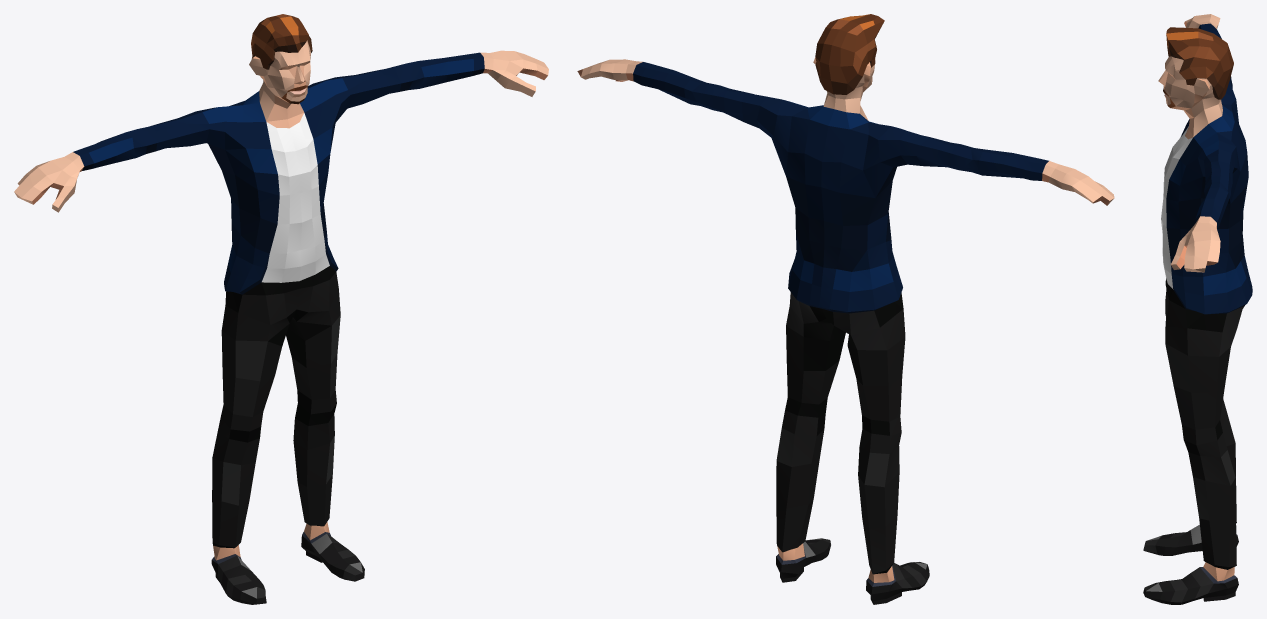
Rendered from night_Male_A-model.obj.
The picture shows the model from 3 angles, left to right: view 1: azimuth 30°, elevation 25°; view 2: azimuth 150°, elevation 25°; view 3: azimuth 270°, elevation 25°; orthographic projection. The views are drawn at different scales.
Parts seen in each view (by area): view 1: night_Male_A, acc_men_hair_brown; view 2: night_Male_A, acc_men_hair_brown; view 3: night_Male_A, acc_men_hair_brown.
Part boxes in pixels (left/top/right/bottom): night_Male_A: left=14, top=40, right=548, bottom=604; acc_men_hair_brown: left=251, top=14, right=312, bottom=69; night_Male_A: left=577, top=57, right=1114, bottom=604; acc_men_hair_brown: left=815, top=14, right=884, bottom=94; night_Male_A: left=1143, top=14, right=1252, bottom=604; acc_men_hair_brown: left=1166, top=27, right=1233, bottom=99.
Bounding box in the file's own units: 182 × 183 × 33.5.
